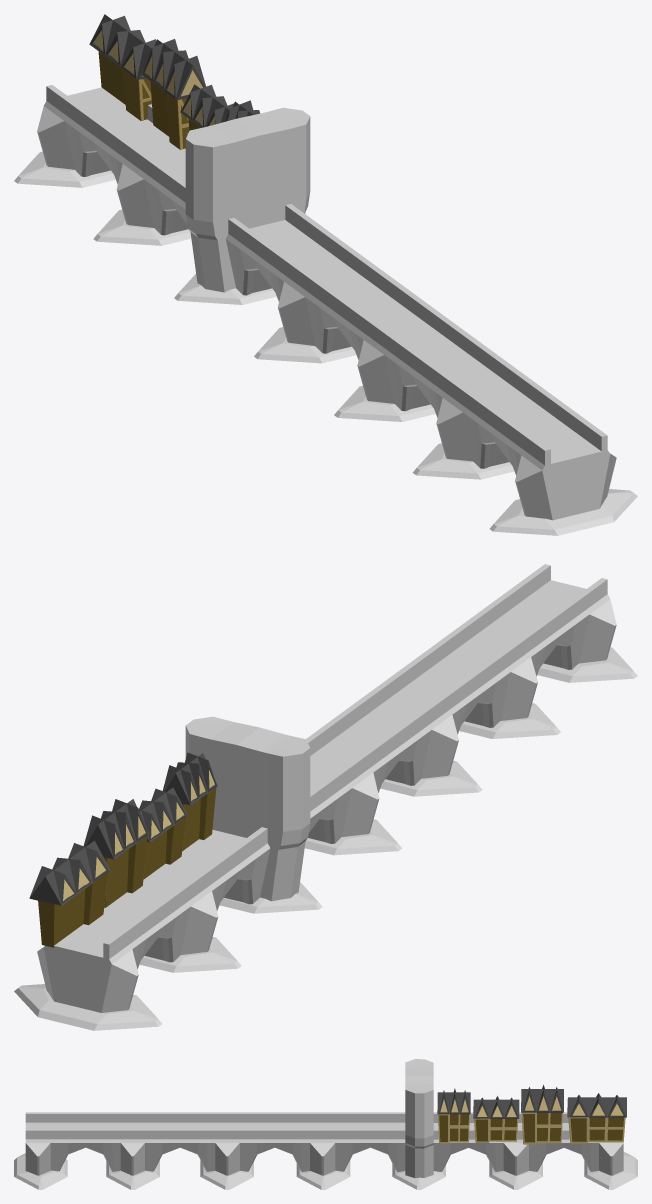
The model's file is LondonBridge.fbx.
3 renders of one model, top to bottom at view 1: azimuth 30°, elevation 25°; view 2: azimuth 150°, elevation 25°; view 3: azimuth 270°, elevation 25°, orthographic. The views are drawn at different scales.
Visible parts, largest first — view 1: Cube.001, Cube, Cube.002, Cube.003; view 2: Cube.001, Cube, Cube.002, Cube.004, Cube.003; view 3: Cube.001, Cube, Cube.002, Cube.003, Cube.004.
Boxes of the visible parts, x1,y1,x2,y2 form: Cube.001: (14,85,637,535); Cube: (89,14,156,121); Cube.002: (142,39,205,149); Cube.003: (180,84,233,130); Cube.001: (14,564,637,1030); Cube: (29,840,110,947); Cube.002: (83,799,148,907); Cube.004: (162,752,217,850); Cube.003: (139,787,187,879); Cube.001: (14,1059,637,1189); Cube: (567,1093,626,1143); Cube.002: (521,1085,563,1144); Cube.003: (473,1096,519,1142); Cube.004: (437,1088,470,1143).
Bounding box in the file's own units: 1932 × 1971 × 12014.
